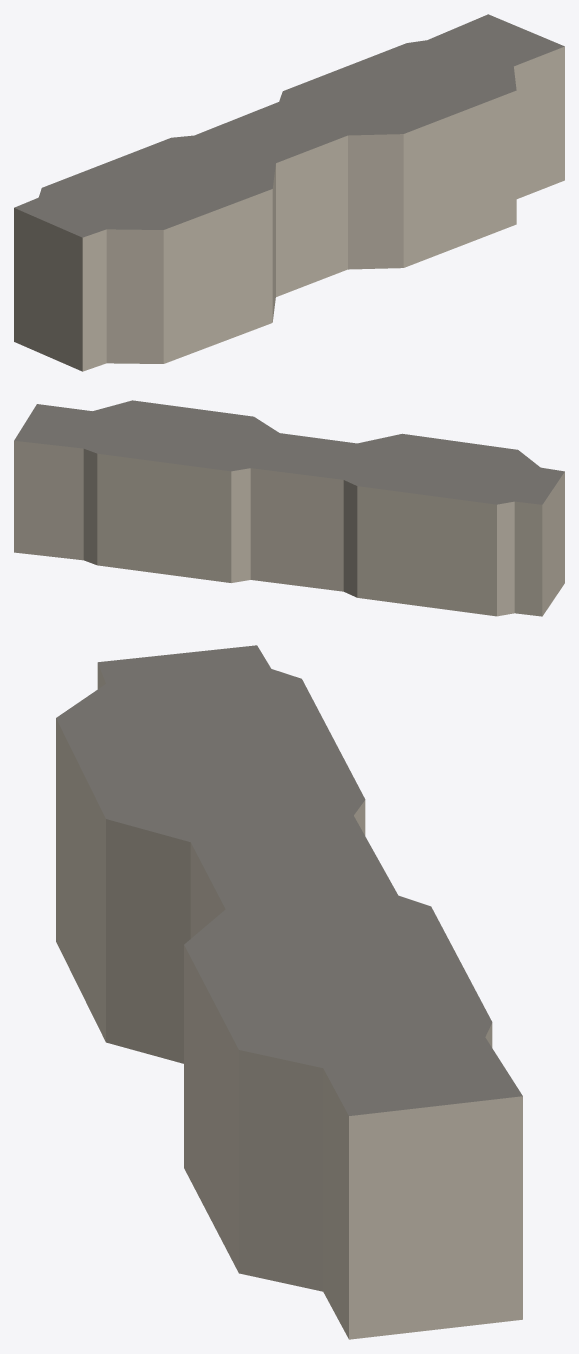
The picture shows the model from 3 angles, top to bottom: view 1: azimuth 30°, elevation 25°; view 2: azimuth 150°, elevation 25°; view 3: azimuth 270°, elevation 25°; orthographic projection. The views are drawn at different scales.
Parts seen in each view (by area): view 1: HP-w293416979; view 2: HP-w293416979; view 3: HP-w293416979.
Boxes of the visible parts, left/top/right/bottom form: HP-w293416979: left=14, top=14, right=564, bottom=371; HP-w293416979: left=14, top=400, right=564, bottom=616; HP-w293416979: left=56, top=645, right=522, bottom=1339.
Size of the model in its own units: 81.32 by 18 by 34.08.
